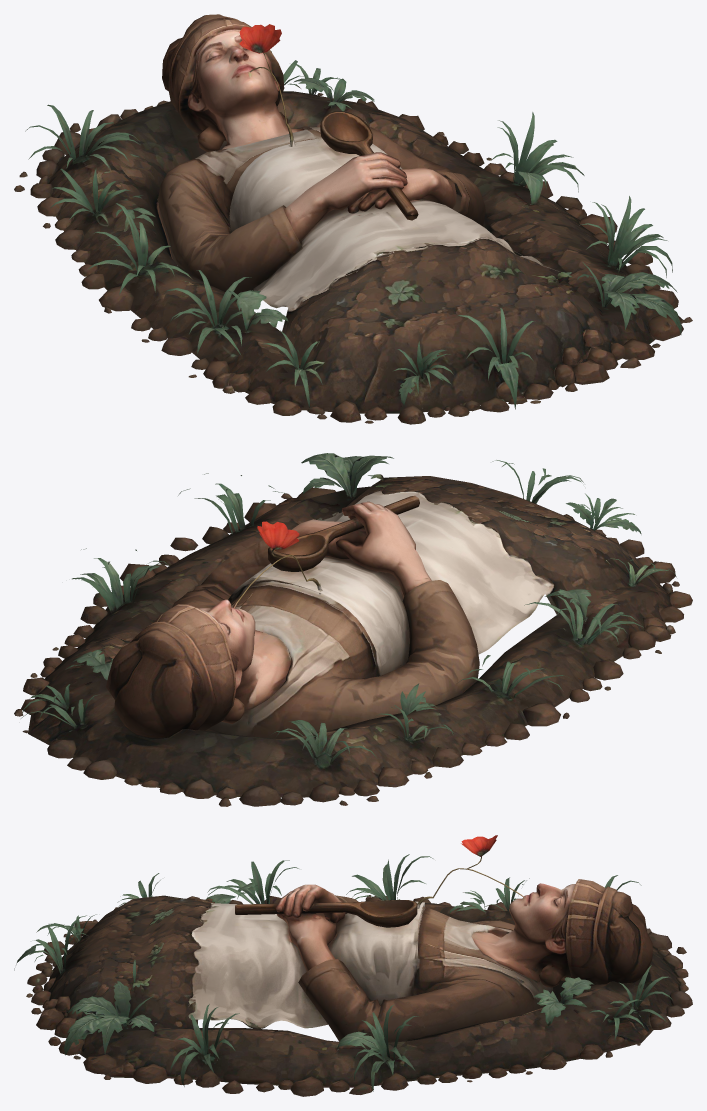
The model's file is act1-a20-4-sleeper-farm-woman.glb.
3 renders of one model, top to bottom at view 1: azimuth 30°, elevation 25°; view 2: azimuth 150°, elevation 25°; view 3: azimuth 270°, elevation 25°, orthographic. The views are drawn at different scales.
Parts seen in each view (by area): view 1: act1-a20-4-sleeper-farm-woman; view 2: act1-a20-4-sleeper-farm-woman; view 3: act1-a20-4-sleeper-farm-woman.
Boxes of the visible parts, x1=… form: act1-a20-4-sleeper-farm-woman: x1=14, y1=14, x2=692, y2=424; act1-a20-4-sleeper-farm-woman: x1=14, y1=453, x2=692, y2=806; act1-a20-4-sleeper-farm-woman: x1=14, y1=835, x2=692, y2=1096.
Bounding box in the file's own units: 1.5 × 0.5825 × 2.1.
Materials: 1 (1 with a texture image).
